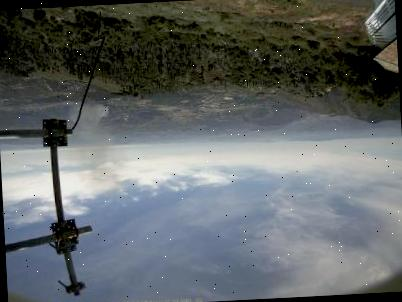smoke: (67, 105, 110, 190)
